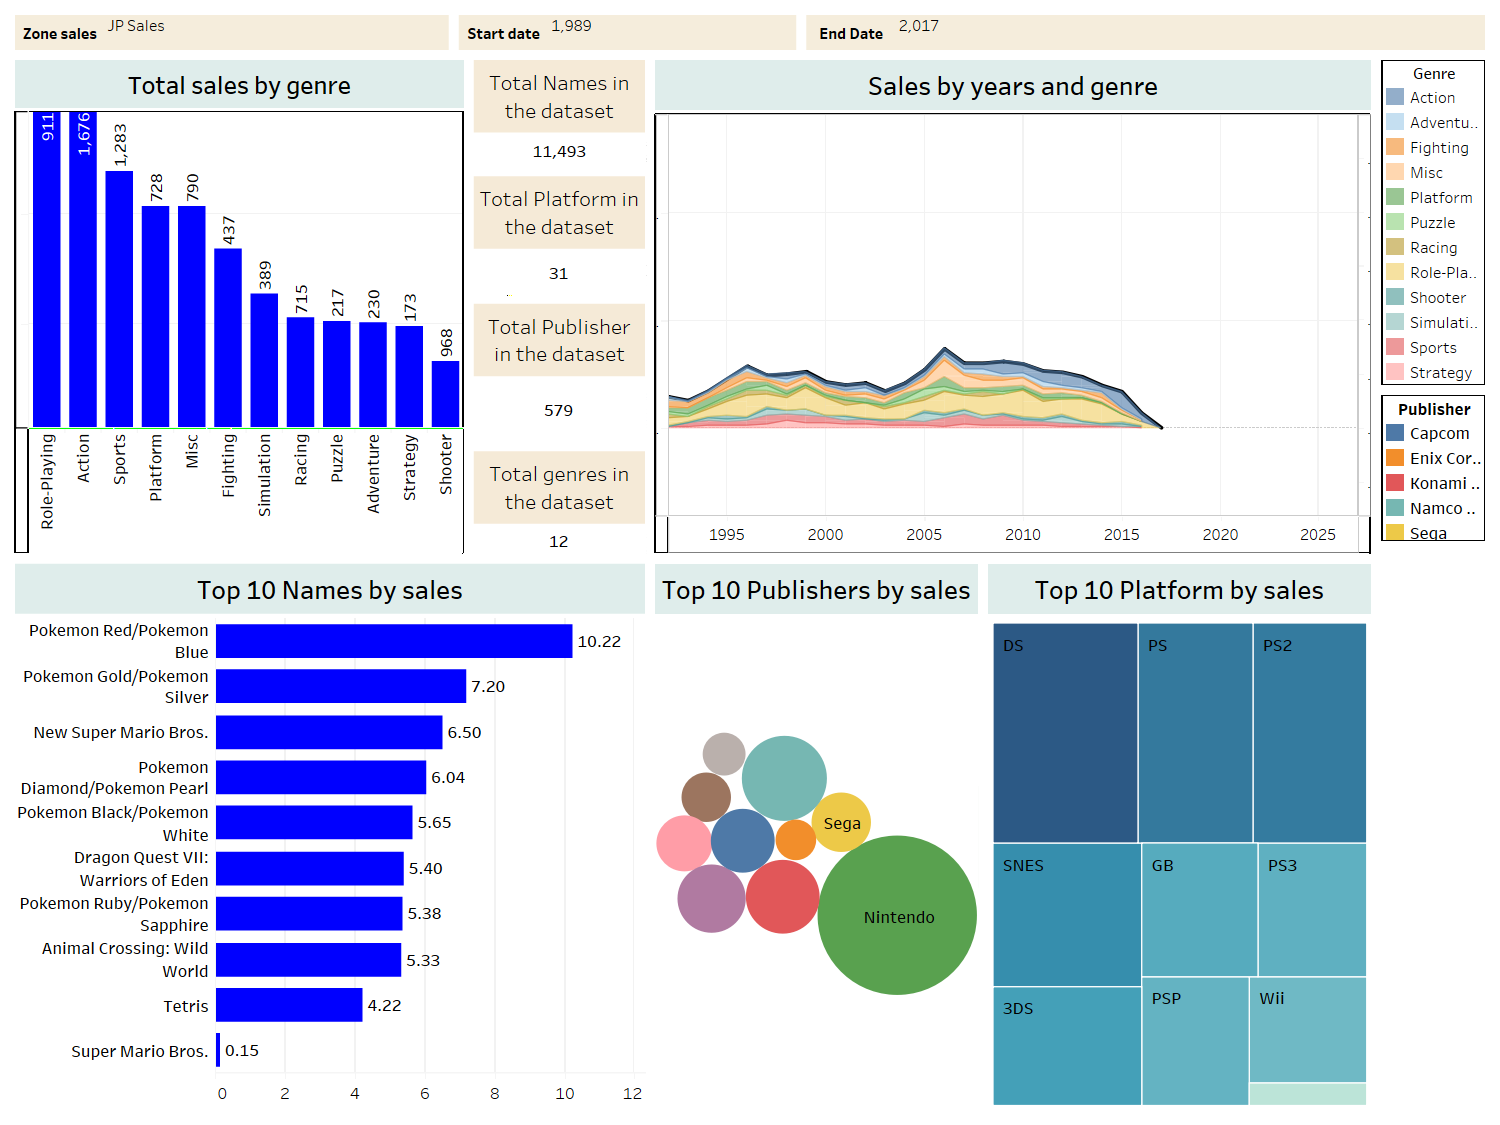

What the dashboard file says about the page in this screenshot:
{"tool":"tableau","page":{"name":"Dashboard 2","canvas":[1200,900],"ordinal":1},"visuals":[{"type":"parameter","param":"[Parameters].[Parameter 1]","box":[8,8,354.9,36.1]},{"type":"parameter","param":"[Parameters].[Parameter 2]","box":[362.9,8,278,36.1]},{"type":"parameter","param":"[Parameters].[Parameter 3]","box":[640.9,8,551.1,36.1]},{"type":"worksheet","title":"Total sales by genre","mark":"Automatic","rows":["Calculation_79375953254887424"],"cols":["Genre"],"box":[8,44.1,367,402.9]},{"type":"worksheet","title":"Total Names in the dataset ","mark":"Automatic","box":[375,44.1,145,92.9]},{"type":"worksheet","title":"Sales by years and genre","mark":"Automatic","rows":["Calculation_79375953254887424","Calculation_79375953254887424"],"cols":["Year"],"box":[520,44.1,581,402.9]},{"type":"legend","title":"Sales by years and genre","param":"[federated.1oz56bg0s3rc0017rk3zp1215cq6].[none:Genre:nk]","box":[1101,44.1,91,268]},{"type":"worksheet","title":"Total Platform in the dataset","mark":"Automatic","box":[375,137,145,102]},{"type":"worksheet","title":"Total Publisher in the dataset","mark":"Automatic","box":[375,239,145,118]},{"type":"legend","title":"Top 10 Publishers by sales","param":"[federated.1oz56bg0s3rc0017rk3zp1215cq6].[none:Publisher:nk]","box":[1101,312.1,91,125]},{"type":"worksheet","title":"Total genres in the dataset ","mark":"Automatic","box":[375,357,145,90]},{"type":"worksheet","title":"Top 10 Names by sales","mark":"Automatic","rows":["Name"],"cols":["Calculation_79375953254887424"],"box":[8,447,512,445]},{"type":"worksheet","title":"Top 10 Publishers by sales","mark":"Circle","box":[520,447,266.3,445]},{"type":"worksheet","title":"Top 10 Platform by sales","mark":"Automatic","box":[786.3,447,314.7,445]}]}

Visuals, with their boxes in screenshot pixels (x1, y1, x2, y2), scaled from the page's 1200x900 canvas onto the 1500x1125 screenshot:
parameter: (10,10,454,55)
parameter: (454,10,801,55)
parameter: (801,10,1490,55)
"Total sales by genre" worksheet: (10,55,469,559)
"Total Names in the dataset " worksheet: (469,55,650,171)
"Sales by years and genre" worksheet: (650,55,1376,559)
"Sales by years and genre" legend: (1376,55,1490,390)
"Total Platform in the dataset" worksheet: (469,171,650,299)
"Total Publisher in the dataset" worksheet: (469,299,650,446)
"Top 10 Publishers by sales" legend: (1376,390,1490,546)
"Total genres in the dataset " worksheet: (469,446,650,559)
"Top 10 Names by sales" worksheet: (10,559,650,1115)
"Top 10 Publishers by sales" worksheet (Circle marks): (650,559,983,1115)
"Top 10 Platform by sales" worksheet: (983,559,1376,1115)
